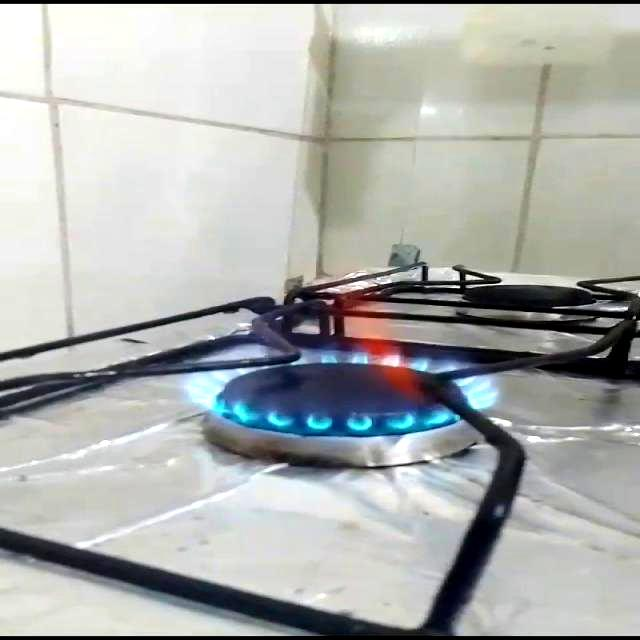fire: (179, 259, 501, 433)
